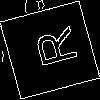R: (25, 25, 78, 72)
